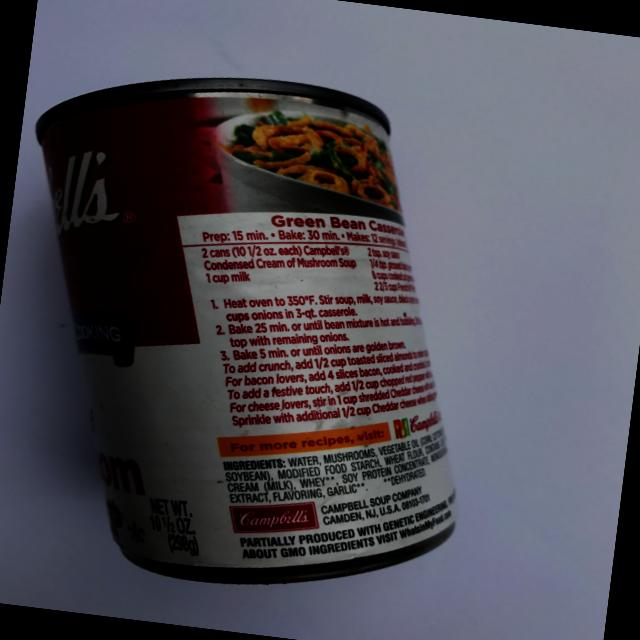Metal: (0, 38, 569, 633)
